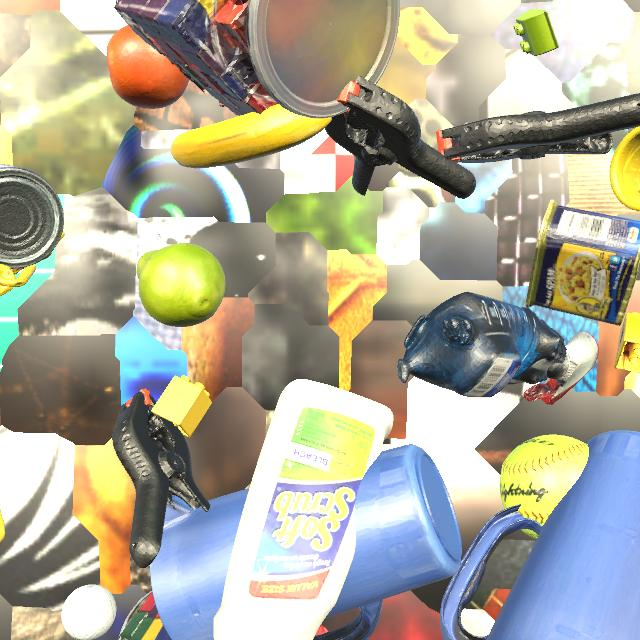ycb_006_mustard_bottle: (0, 509, 5, 543)
ycb_007_tuna_fish_can: (0, 164, 64, 269)
ycb_010_potted_meat_can: (525, 200, 640, 326)
ycb_011_banana: (171, 104, 332, 168)
ycb_016_pear: (137, 243, 225, 327)
ycb_017_orange: (106, 25, 189, 109)
